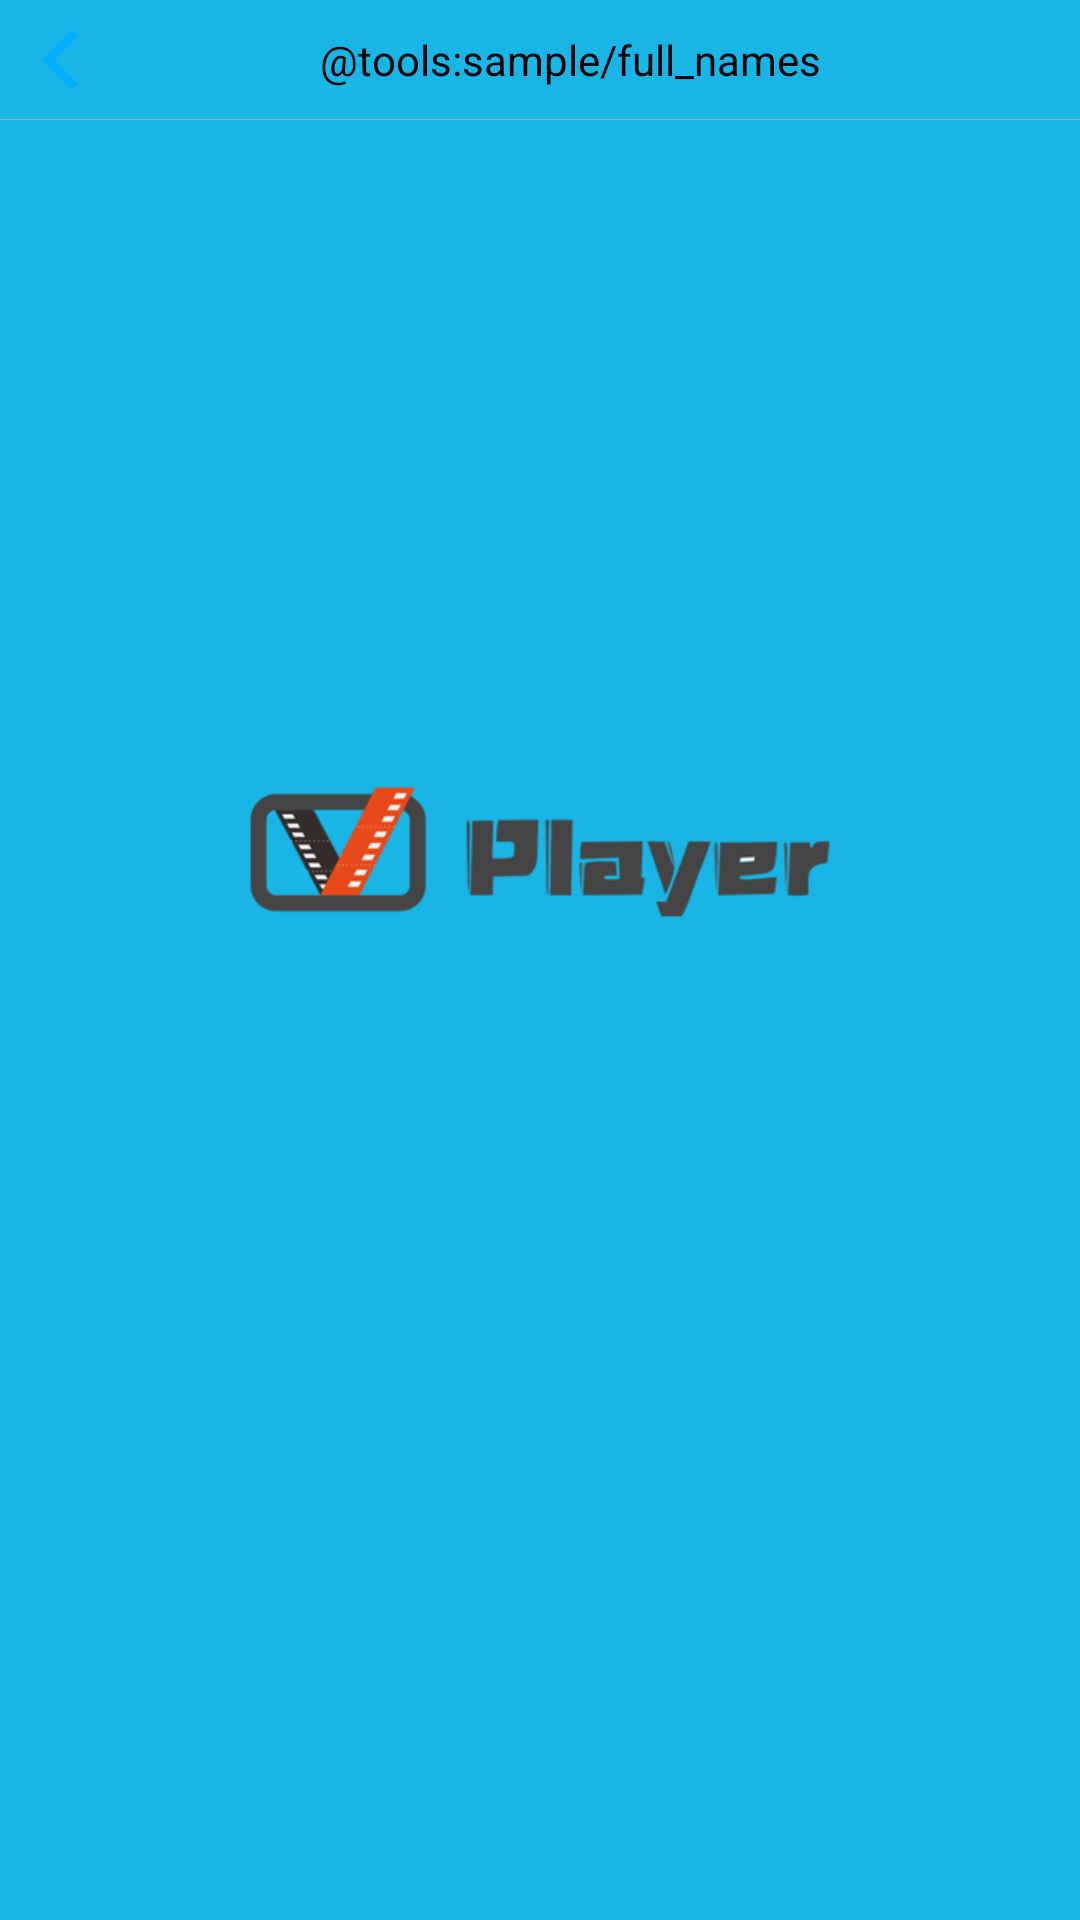

Icon bounding boxes for this 1080w x 1920h phone screenshot, format (x1, y1, x2, y2):
back: (43, 31, 77, 89)
